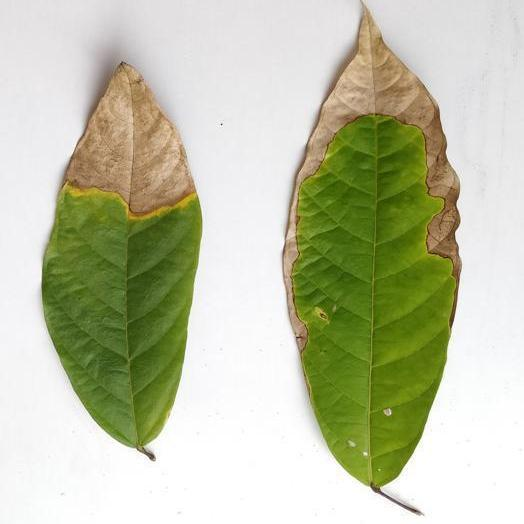Potassium: (284, 8, 459, 513), (43, 63, 201, 459)
